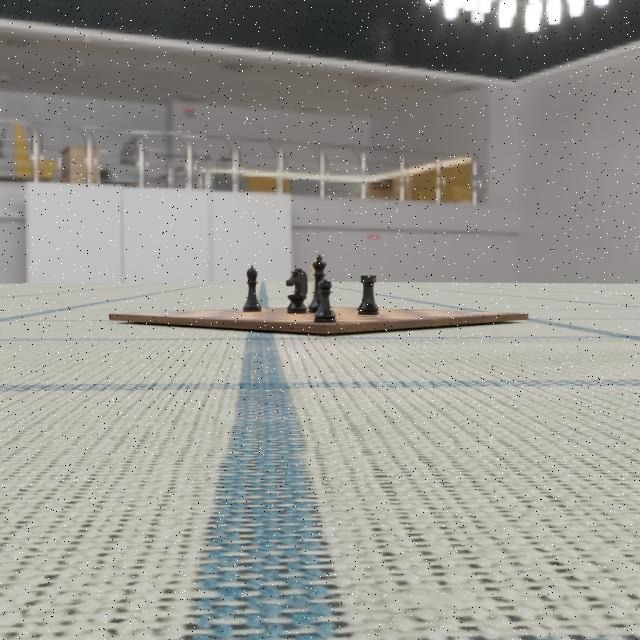black-bishop: (241, 265, 263, 313)
black-king: (308, 254, 328, 314)
black-knight: (285, 263, 309, 314)
black-pawn: (312, 276, 339, 323)
black-rook: (357, 271, 379, 316)
white-king: (307, 255, 325, 314)
